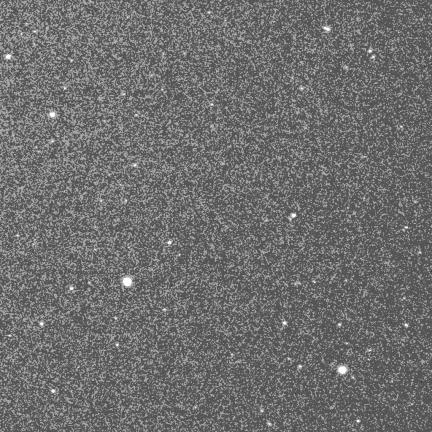blob: (338, 366, 347, 374), (123, 278, 132, 286), (6, 54, 12, 60), (50, 112, 55, 118), (290, 213, 296, 218), (323, 27, 330, 31), (368, 49, 373, 54), (283, 321, 288, 326), (404, 324, 409, 328), (357, 419, 361, 424), (300, 86, 305, 90), (371, 55, 375, 59), (260, 408, 264, 412), (133, 164, 137, 168), (114, 317, 118, 321), (40, 322, 44, 326), (298, 365, 302, 369), (51, 389, 55, 393), (268, 422, 272, 426), (168, 241, 172, 244), (70, 287, 74, 290), (52, 139, 55, 143), (116, 343, 119, 347), (163, 308, 166, 311), (338, 323, 341, 326), (125, 199, 127, 203)
